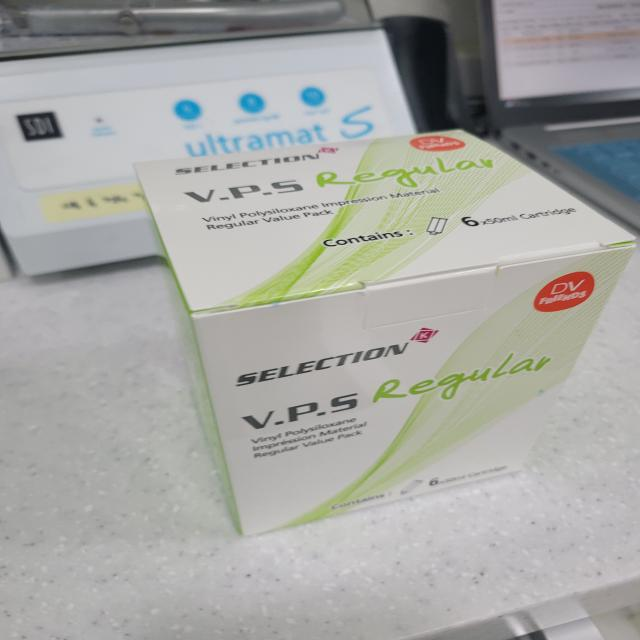impression: (101, 124, 636, 550)
